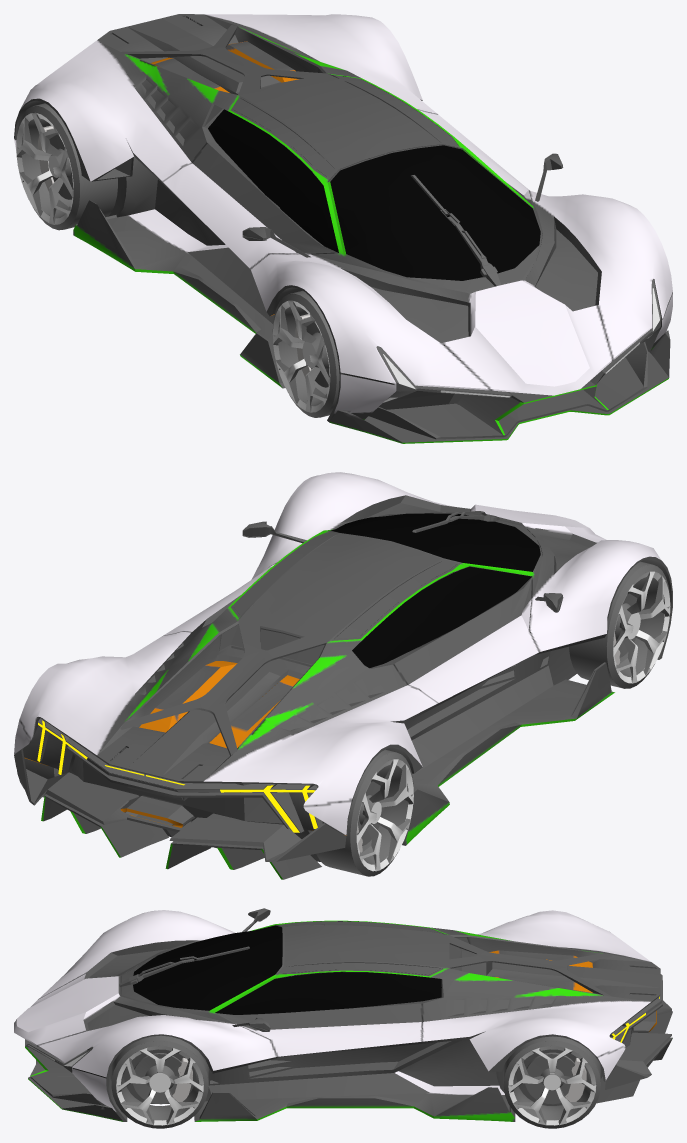
Rendered from car.fbx.
3 views of the same model, one above another, from view 1: azimuth 30°, elevation 25°; view 2: azimuth 150°, elevation 25°; view 3: azimuth 270°, elevation 25° (orthographic). The views are drawn at different scales.
Parts seen in each view (by area): view 1: RACER_5, Windshield, RR_wheel_, FR_wheel_, Head_lights, Wipper; view 2: RACER_5, Windshield, FR_wheel_, RR_wheel_, Rear_lights; view 3: RACER_5, Windshield, RL_wheel_, FL_wheel_, Wipper, Rear_lights, RL_Brake, FL_Brake_, Head_lights.
Part boxes in pixels (left/top/right/bottom): RACER_5: left=14, top=14, right=672, bottom=443; Windshield: left=208, top=76, right=540, bottom=280; RR_wheel_: left=16, top=103, right=117, bottom=230; FR_wheel_: left=272, top=290, right=339, bottom=417; Head_lights: left=376, top=279, right=661, bottom=402; Wipper: left=410, top=175, right=500, bottom=286; RACER_5: left=14, top=472, right=672, bottom=879; Windshield: left=331, top=513, right=540, bottom=668; FR_wheel_: left=569, top=561, right=670, bottom=688; RR_wheel_: left=312, top=749, right=413, bottom=876; Rear_lights: left=37, top=718, right=322, bottom=832; RACER_5: left=14, top=908, right=672, bottom=1121; Windshield: left=133, top=921, right=441, bottom=1014; RL_wheel_: left=503, top=1036, right=600, bottom=1128; FL_wheel_: left=111, top=1035, right=208, bottom=1128; Wipper: left=119, top=946, right=249, bottom=987; Rear_lights: left=610, top=974, right=662, bottom=1042; RL_Brake: left=565, top=1058, right=586, bottom=1101; FL_Brake_: left=170, top=1057, right=192, bottom=1106; Head_lights: left=28, top=1044, right=93, bottom=1074.
Size of the model in its own units: 297 by 134 by 640.
8 materials, 4 textured.
